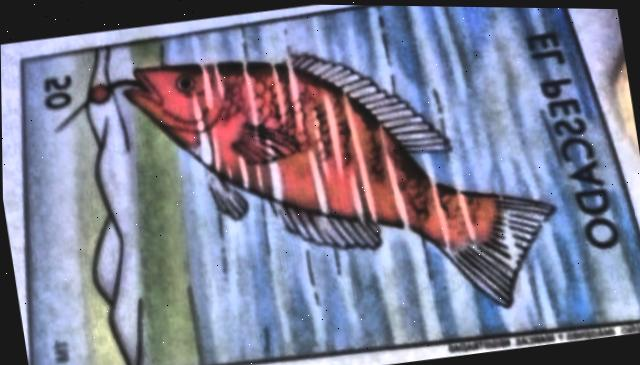El Pescado: (22, 4, 640, 365)
